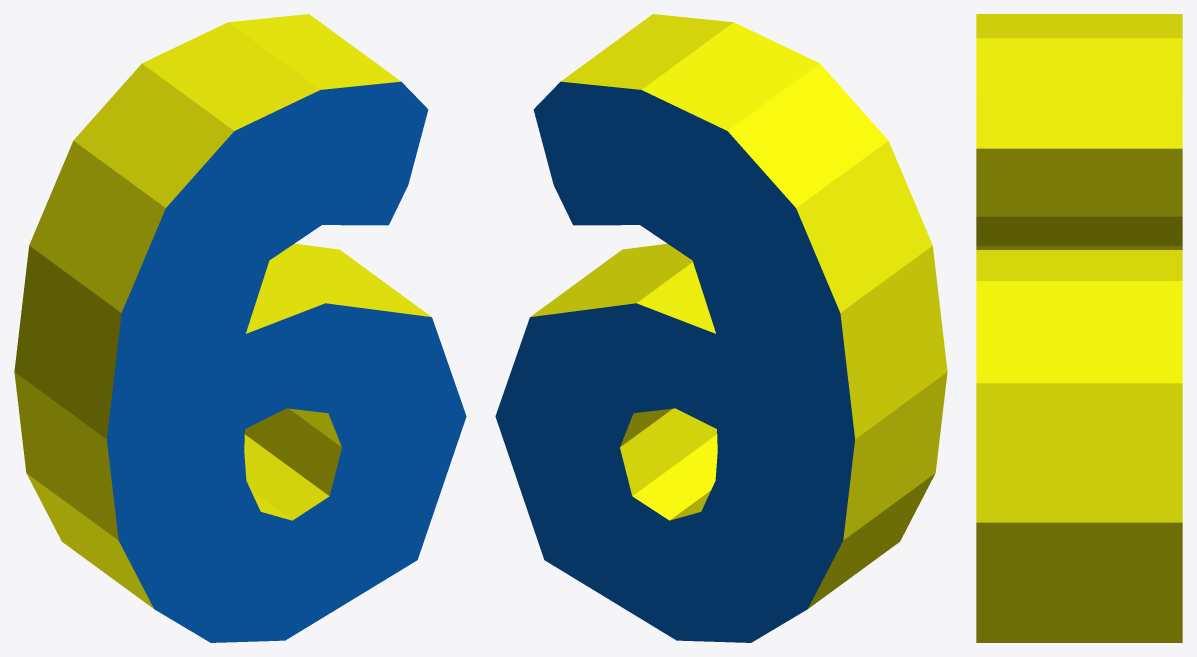
3 views of the same model, side by side, from view 1: azimuth 30°, elevation 25°; view 2: azimuth 150°, elevation 25°; view 3: azimuth 270°, elevation 25° (orthographic). The views are drawn at different scales.
Visible parts, largest first — view 1: text: ABCDEFGHIJKLMNOPQRSTUVWXYZ01234567891_sep33_blue, text: ABCDEFGHIJKLMNOPQRSTUVWXYZ01234567891_sep33_yellow; view 2: text: ABCDEFGHIJKLMNOPQRSTUVWXYZ01234567891_sep33_blue, text: ABCDEFGHIJKLMNOPQRSTUVWXYZ01234567891_sep33_yellow; view 3: text: ABCDEFGHIJKLMNOPQRSTUVWXYZ01234567891_sep33_yellow.
Boxes of the visible parts, left/top/right/bottom form: text: ABCDEFGHIJKLMNOPQRSTUVWXYZ01234567891_sep33_blue: left=107, top=81, right=466, bottom=642; text: ABCDEFGHIJKLMNOPQRSTUVWXYZ01234567891_sep33_yellow: left=14, top=14, right=431, bottom=608; text: ABCDEFGHIJKLMNOPQRSTUVWXYZ01234567891_sep33_blue: left=495, top=81, right=854, bottom=642; text: ABCDEFGHIJKLMNOPQRSTUVWXYZ01234567891_sep33_yellow: left=530, top=14, right=947, bottom=608; text: ABCDEFGHIJKLMNOPQRSTUVWXYZ01234567891_sep33_yellow: left=976, top=14, right=1182, bottom=642.
Size of the model in its own units: 56.18 by 80.9 by 25.
